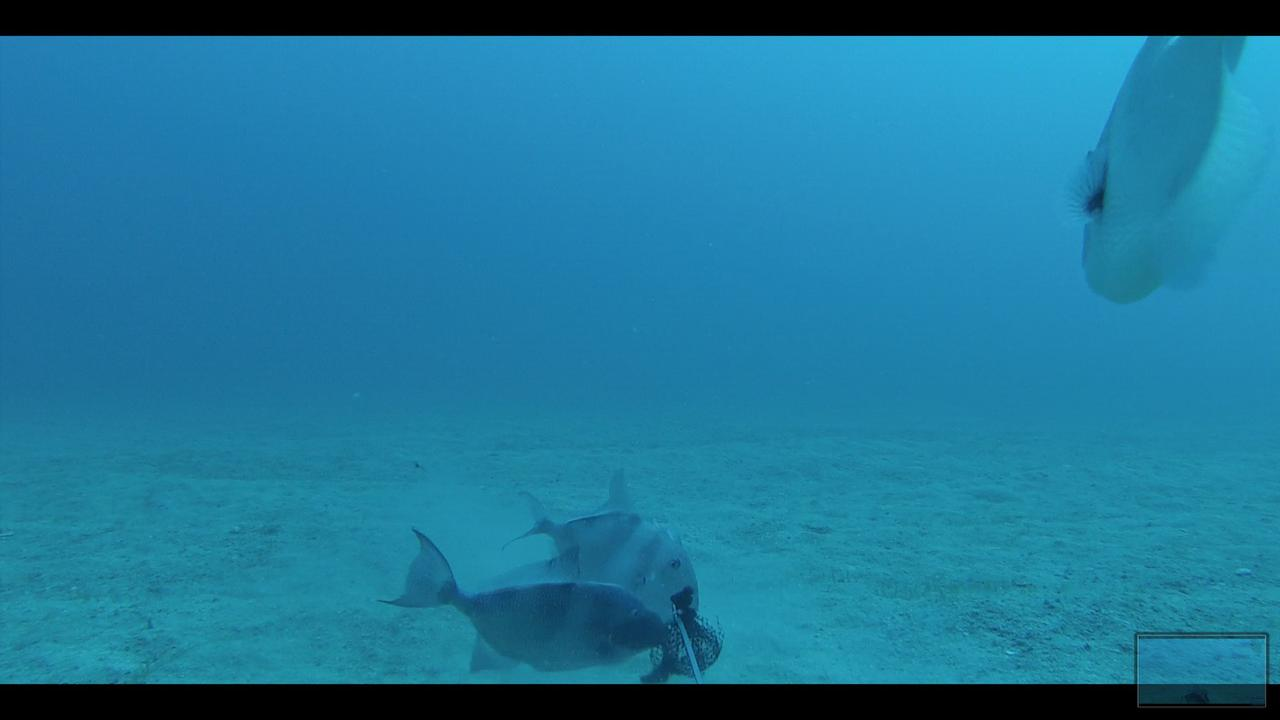balistes: (1052, 37, 1268, 307), (378, 524, 667, 673), (500, 468, 698, 621)
